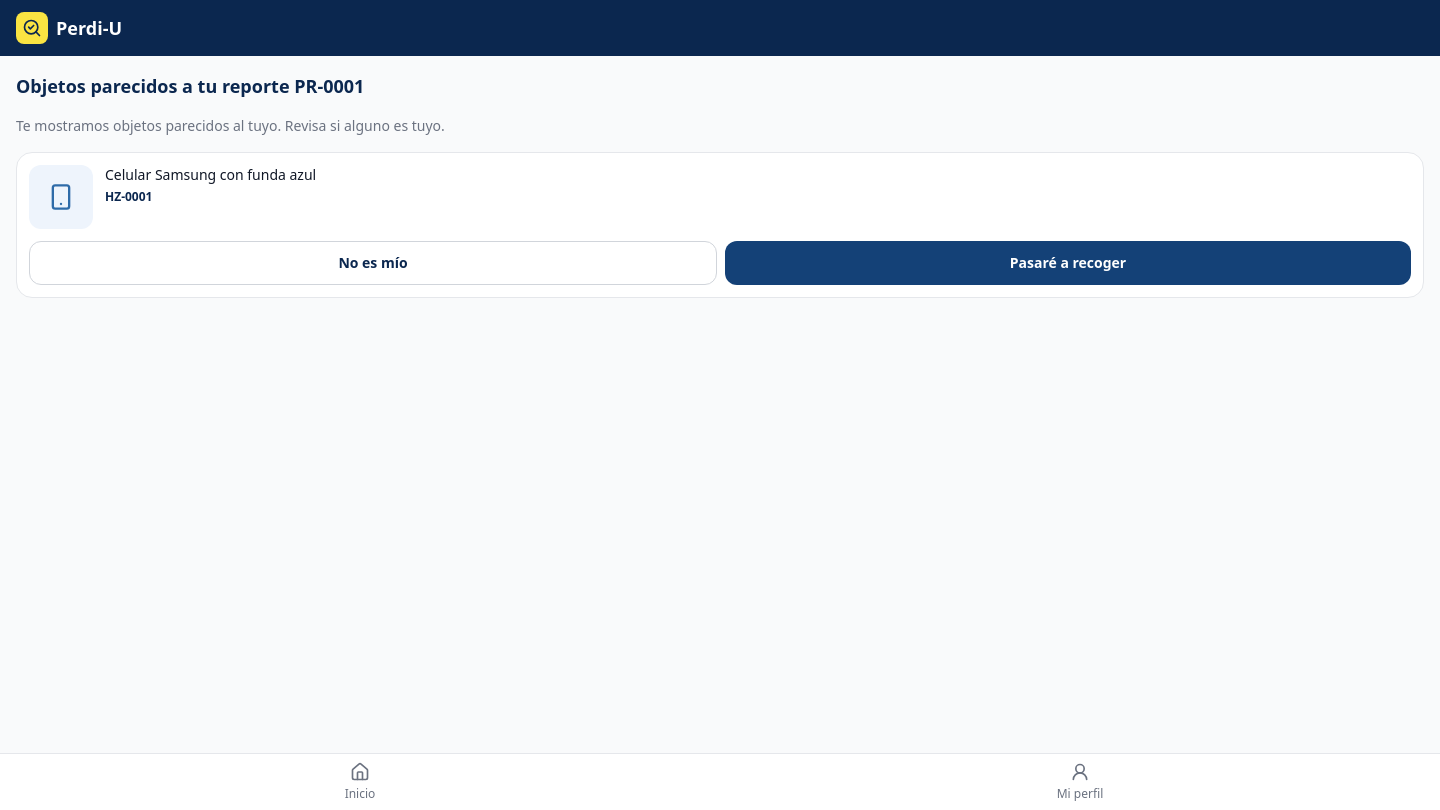
Test: Navegación de la app › quita el objeto de la lista al elegir "No es mío"
This screenshot has width=1440, height=810.
Step 1. Click the button "No es mío" → point(373, 263), box x1=29 y1=241 x2=717 y2=285
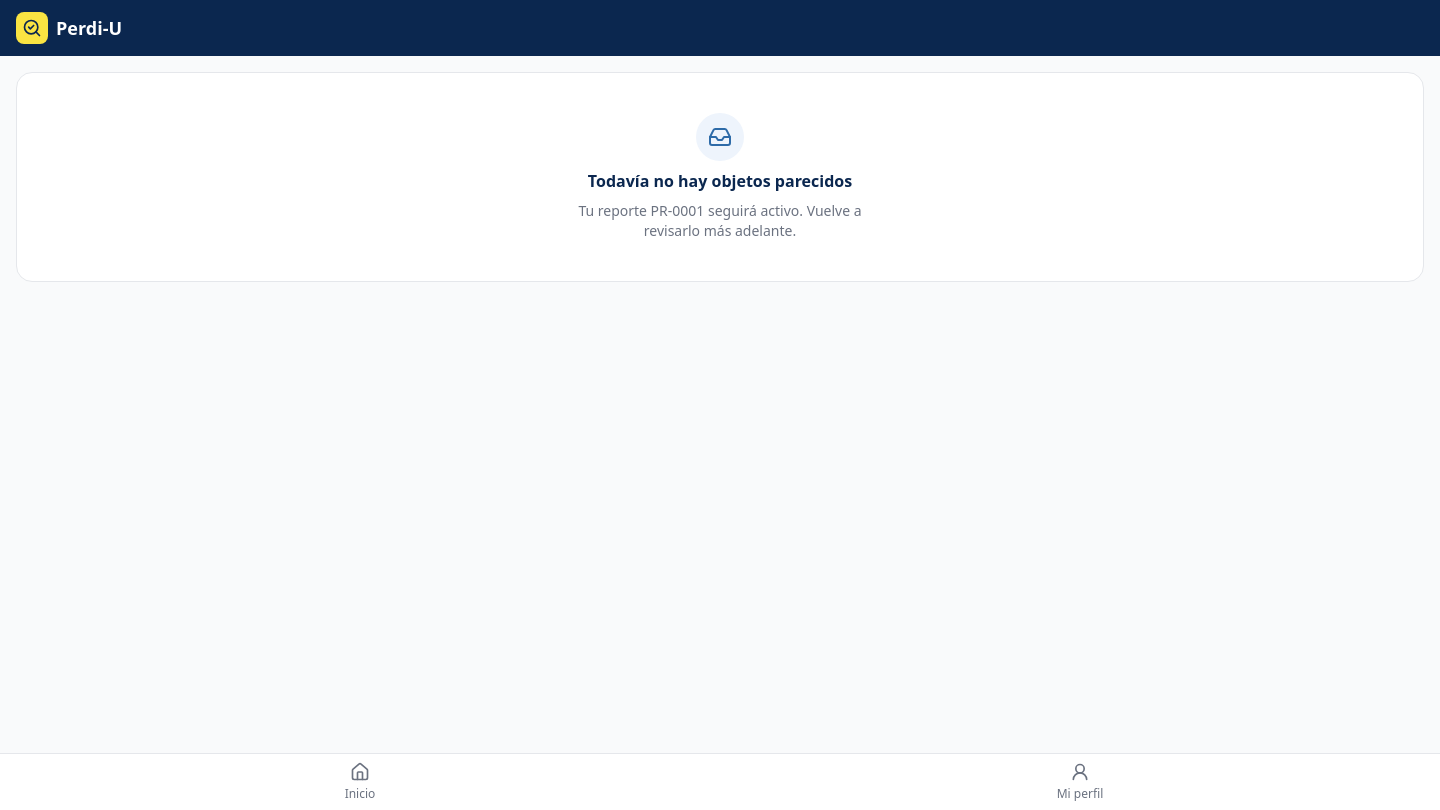
Expected: the heading "Todavía no hay objetos parecidos" is shown, x1=588 y1=169 x2=852 y2=193
